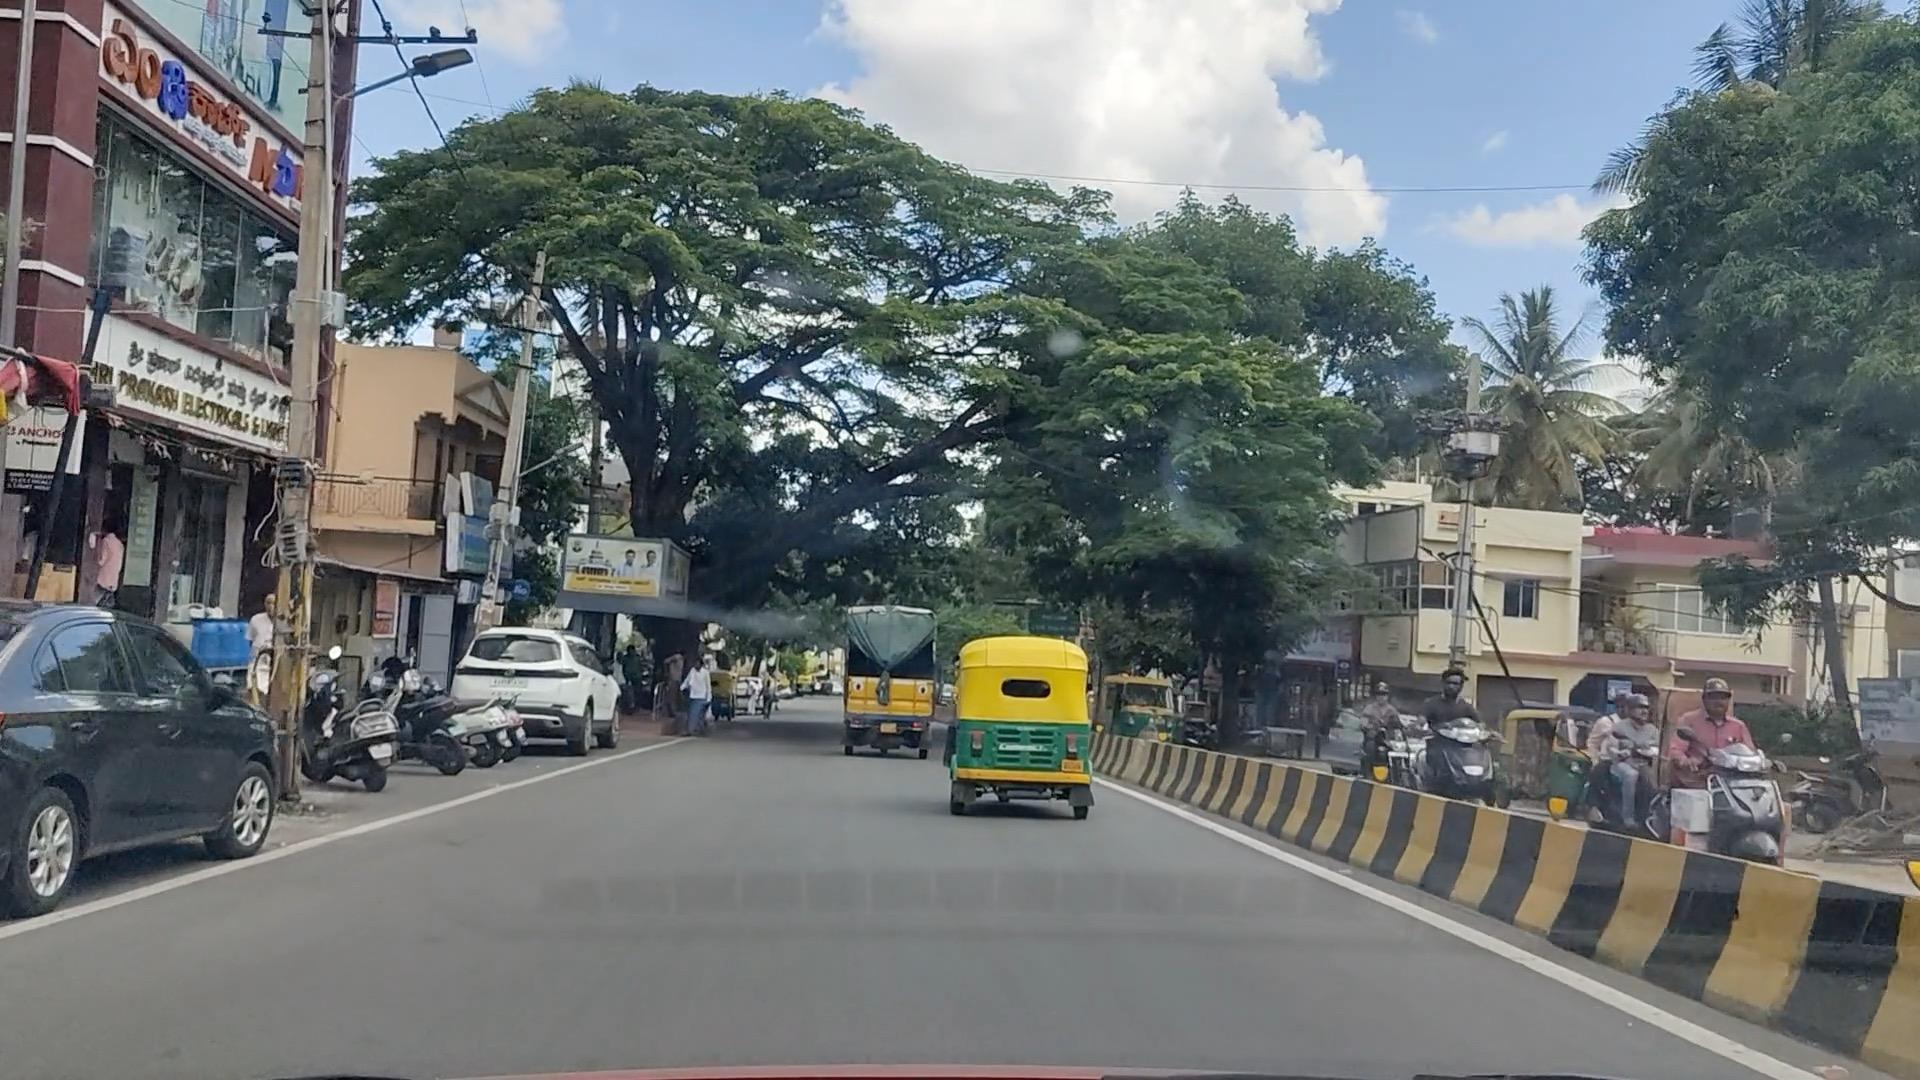HMV: (843, 605, 945, 750)
LMV: (957, 647, 1091, 800)
